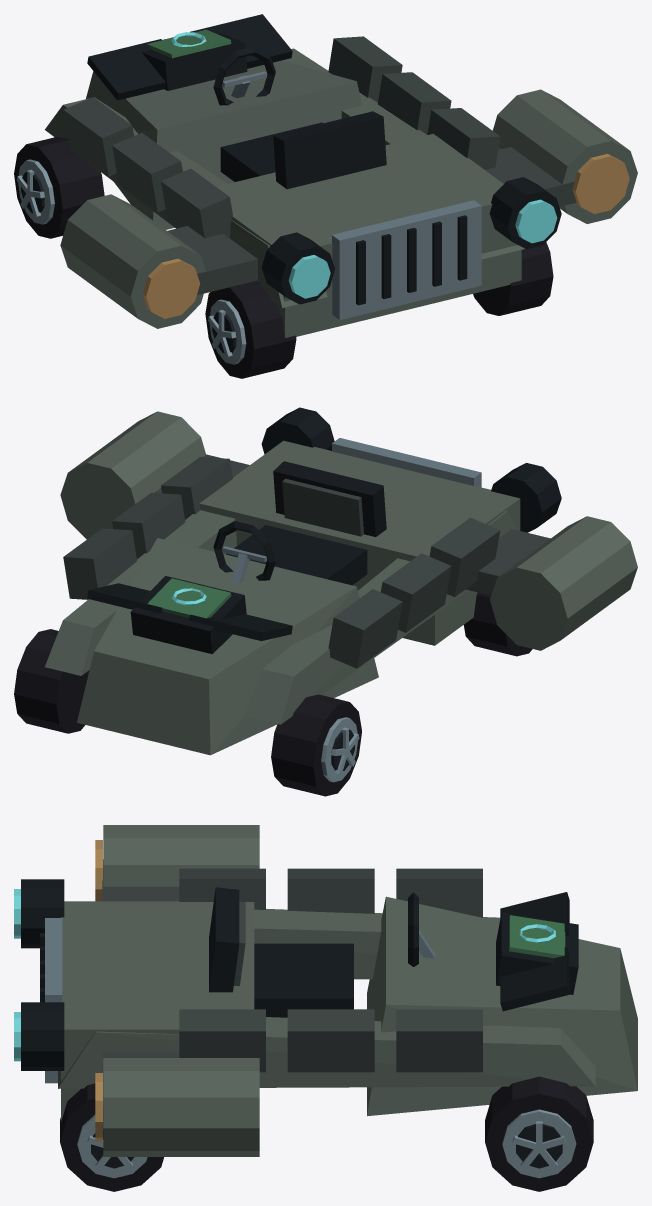
Rendered from kart.glb.
3 renders of one model, top to bottom at view 1: azimuth 30°, elevation 25°; view 2: azimuth 150°, elevation 25°; view 3: azimuth 270°, elevation 25°, orthographic. The views are drawn at different scales.
Parts seen in each view (by area): view 1: identity-dropship-dropship-armored-cargo-fuselage, identity-dropship-motif-armor, identity-dropship-driver-cockpit, identity-dropship-motif-thrusters, wheel-rear-left, wheel-front-left, identity-dropship-motif-scanner, wheel-rear-right; view 2: identity-dropship-dropship-armored-cargo-fuselage, identity-dropship-motif-armor, identity-dropship-driver-cockpit, wheel-front-left, identity-dropship-motif-scanner, identity-dropship-motif-thrusters, wheel-front-right, wheel-rear-left; view 3: identity-dropship-dropship-armored-cargo-fuselage, identity-dropship-motif-armor, identity-dropship-driver-cockpit, wheel-front-right, identity-dropship-motif-thrusters, wheel-rear-right, identity-dropship-motif-scanner.
Part boxes in pixels (<box>): identity-dropship-dropship-armored-cargo-fuselage: <box>45,14,637,337</box>; identity-dropship-motif-armor: <box>63,36,500,238</box>; identity-dropship-driver-cockpit: <box>213,46,386,189</box>; identity-dropship-motif-thrusters: <box>261,177,561,304</box>; wheel-rear-left: <box>205,280,296,378</box>; wheel-front-left: <box>14,136,104,238</box>; identity-dropship-motif-scanner: <box>142,29,247,90</box>; wheel-rear-right: <box>473,242,553,315</box>; identity-dropship-dropship-armored-cargo-fuselage: <box>45,411,637,755</box>; identity-dropship-motif-armor: <box>63,457,500,668</box>; identity-dropship-driver-cockpit: <box>213,461,386,585</box>; wheel-front-left: <box>271,694,361,796</box>; identity-dropship-motif-scanner: <box>130,576,246,654</box>; identity-dropship-motif-thrusters: <box>261,407,561,532</box>; wheel-front-right: <box>14,629,89,733</box>; wheel-rear-left: <box>464,592,532,656</box>; identity-dropship-dropship-armored-cargo-fuselage: <box>40,825,637,1156</box>; identity-dropship-motif-armor: <box>179,868,482,1072</box>; identity-dropship-driver-cockpit: <box>209,887,435,1017</box>; wheel-front-right: <box>485,1076,593,1191</box>; identity-dropship-motif-thrusters: <box>14,879,64,1070</box>; wheel-rear-right: <box>60,1083,163,1191</box>; identity-dropship-motif-scanner: <box>496,912,578,994</box>.
Size of the model in its own units: 3 by 1.09 by 2.88.
